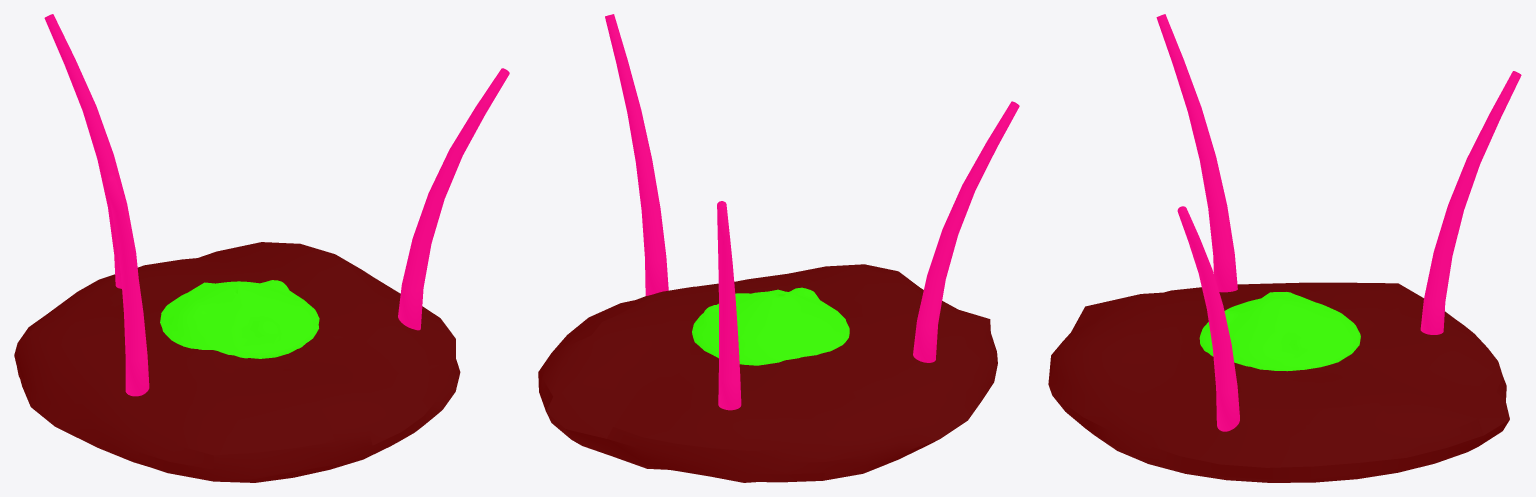
Rendered from Plant_01_ranke_state00.gltf.
3 views of the same model, side by side, from view 1: azimuth 30°, elevation 25°; view 2: azimuth 150°, elevation 25°; view 3: azimuth 270°, elevation 25° (orthographic). The views are drawn at different scales.
Parts seen in each view (by area): view 1: NurbsPath.002; view 2: NurbsPath.002; view 3: NurbsPath.002.
Boxes of the visible parts, <box> form: NurbsPath.002: <box>14,14,509,482</box>; NurbsPath.002: <box>538,14,1019,482</box>; NurbsPath.002: <box>1048,14,1521,482</box>.
Bounding box in the file's own units: 0.9566 × 0.6716 × 0.9653.
